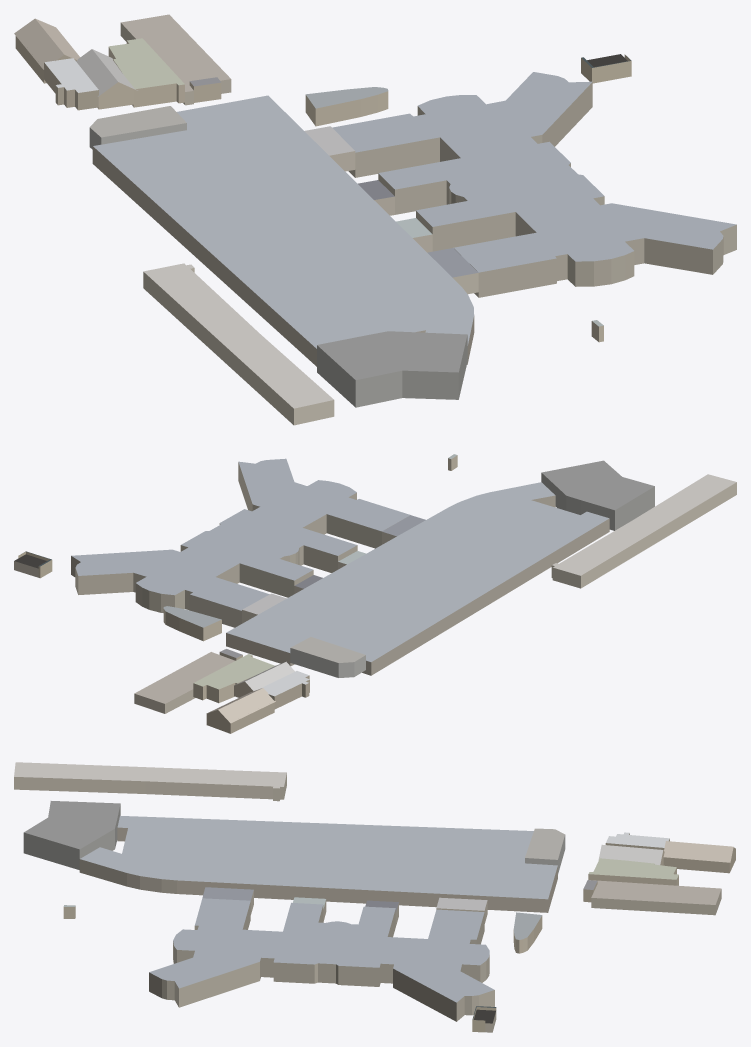
3 views of the same model, one above another, from view 1: azimuth 30°, elevation 25°; view 2: azimuth 150°, elevation 25°; view 3: azimuth 270°, elevation 25° (orthographic). The views are drawn at different scales.
Parts seen in each view (by area): view 1: tuile; view 2: tuile; view 3: tuile.
Boxes of the visible parts, box(x1,y1,x2,y2) form: tuile: box(14, 14, 736, 425); tuile: box(14, 454, 736, 733); tuile: box(14, 762, 735, 1032).
Bounding box in the file's own units: 208 × 16.77 × 267.
